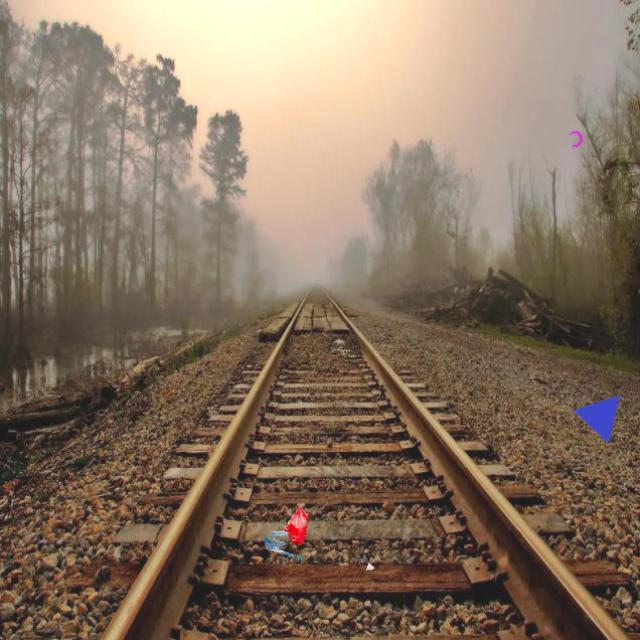0 plastic_garbage_on_track: (284, 503, 309, 545)
2 negative_shape: (572, 395, 620, 445), (365, 562, 375, 571)
3 negative_text: (569, 130, 583, 147)
4 track: (101, 339, 630, 639)
